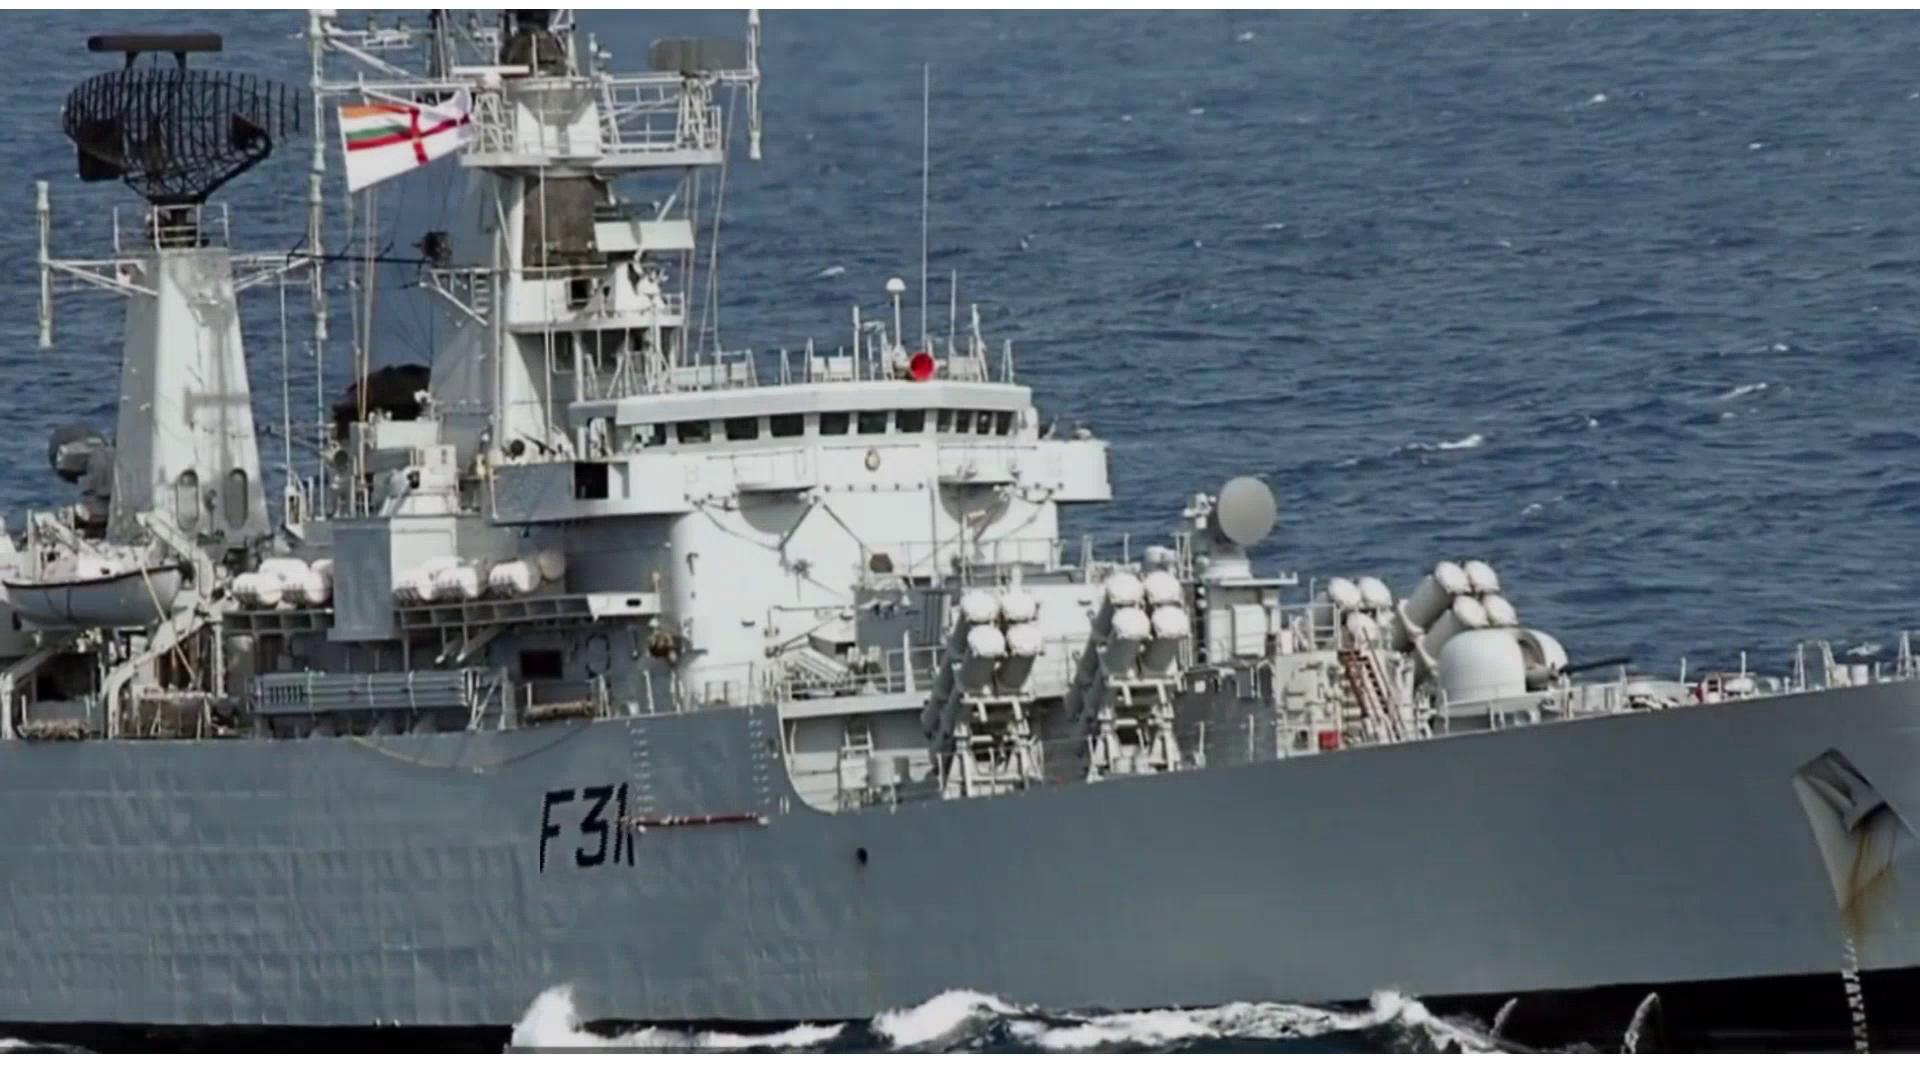OCR: (541, 782, 638, 881)
